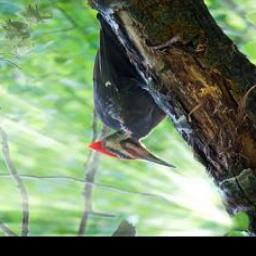Woodpecker: (86, 12, 180, 170)
